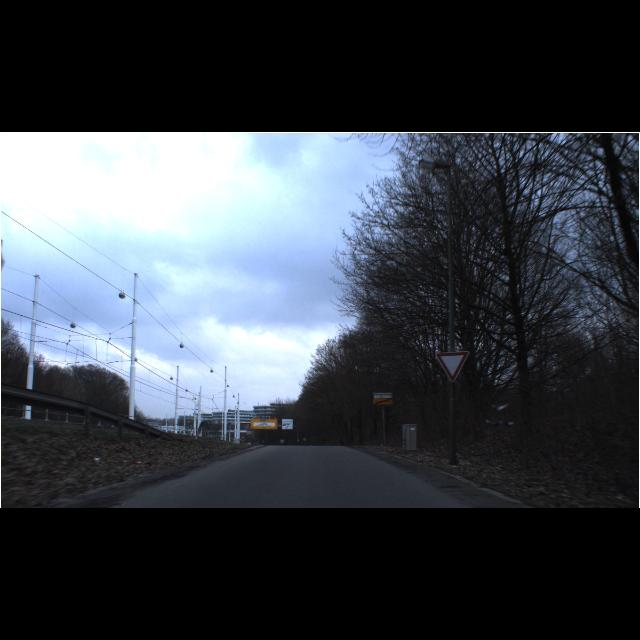other: (435, 351, 469, 383)
